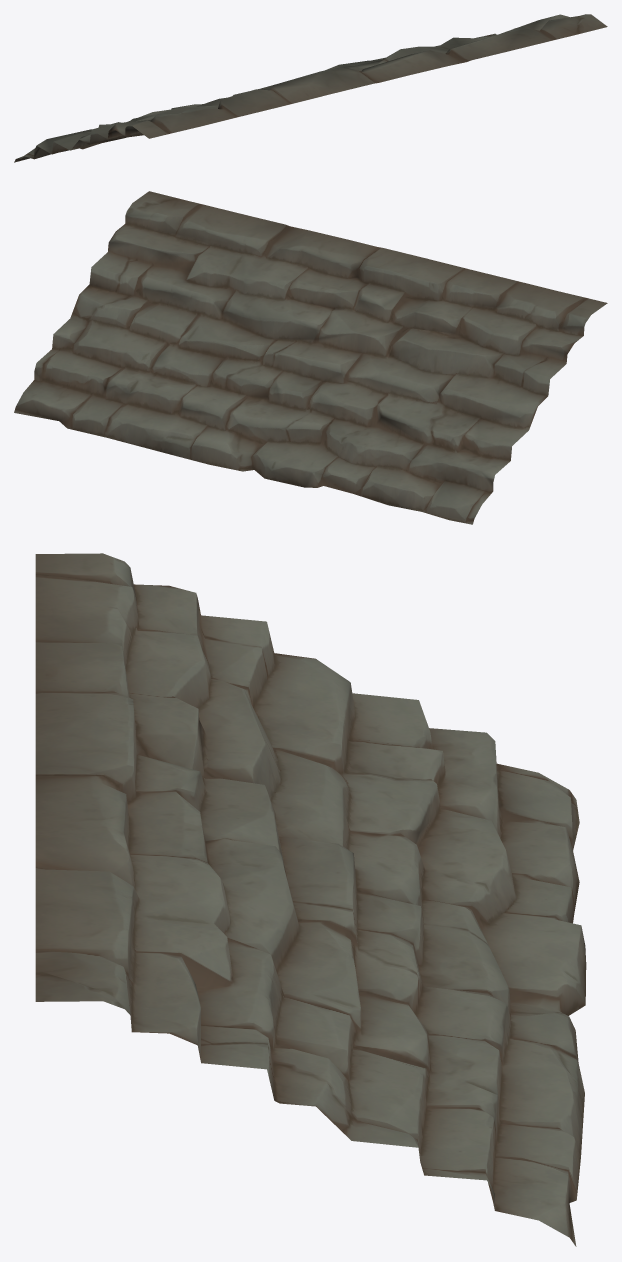
File: SM_FW01_Ruins_Int_Stairs_2x1x4_01.fbx
3 renders of one model, top to bottom at view 1: azimuth 30°, elevation 25°; view 2: azimuth 150°, elevation 25°; view 3: azimuth 270°, elevation 25°, orthographic. The views are drawn at different scales.
Parts seen in each view (by area): view 1: SM_FW01_Ruins_Int_Stairs_2x1x4_01_LOD0; view 2: SM_FW01_Ruins_Int_Stairs_2x1x4_01_LOD0; view 3: SM_FW01_Ruins_Int_Stairs_2x1x4_01_LOD0.
Part boxes in pixels (left/top/right/bottom): SM_FW01_Ruins_Int_Stairs_2x1x4_01_LOD0: left=14, top=14, right=607, bottom=162; SM_FW01_Ruins_Int_Stairs_2x1x4_01_LOD0: left=14, top=191, right=607, bottom=524; SM_FW01_Ruins_Int_Stairs_2x1x4_01_LOD0: left=35, top=553, right=586, bottom=1246.
Size of what is drawn, in the model's own units: 4 by 1.08 by 2.08.
